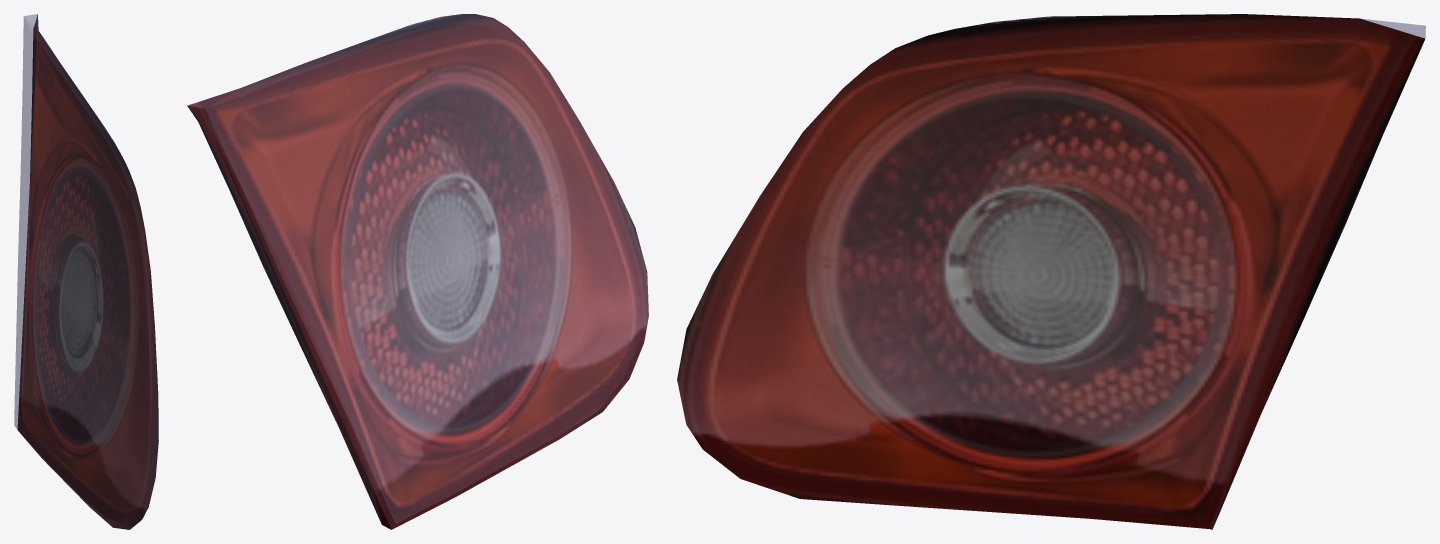
3 renders of one model, left to right at view 1: azimuth 30°, elevation 25°; view 2: azimuth 150°, elevation 25°; view 3: azimuth 270°, elevation 25°, orthographic. The views are drawn at different scales.
Parts seen in each view (by area): view 1: X6164_18_541D_L_X6164_18_541D_L_2_DTaSI, X6164_18_541D_L_1_N_X6164_18_541D_L; view 2: X6164_18_541D_L_1_N_X6164_18_541D_L, X6164_18_541D_L_X6164_18_541D_L_2_DTaSI; view 3: X6164_18_541D_L_1_N_X6164_18_541D_L.
Part boxes in pixels (x1,y1,x2,y2): X6164_18_541D_L_X6164_18_541D_L_2_DTaSI: [14, 14, 158, 529]; X6164_18_541D_L_1_N_X6164_18_541D_L: [17, 14, 158, 529]; X6164_18_541D_L_1_N_X6164_18_541D_L: [187, 14, 648, 529]; X6164_18_541D_L_X6164_18_541D_L_2_DTaSI: [187, 14, 648, 529]; X6164_18_541D_L_1_N_X6164_18_541D_L: [677, 14, 1424, 529].
Size of the model in its own units: 7.22 by 19.76 by 23.79.
